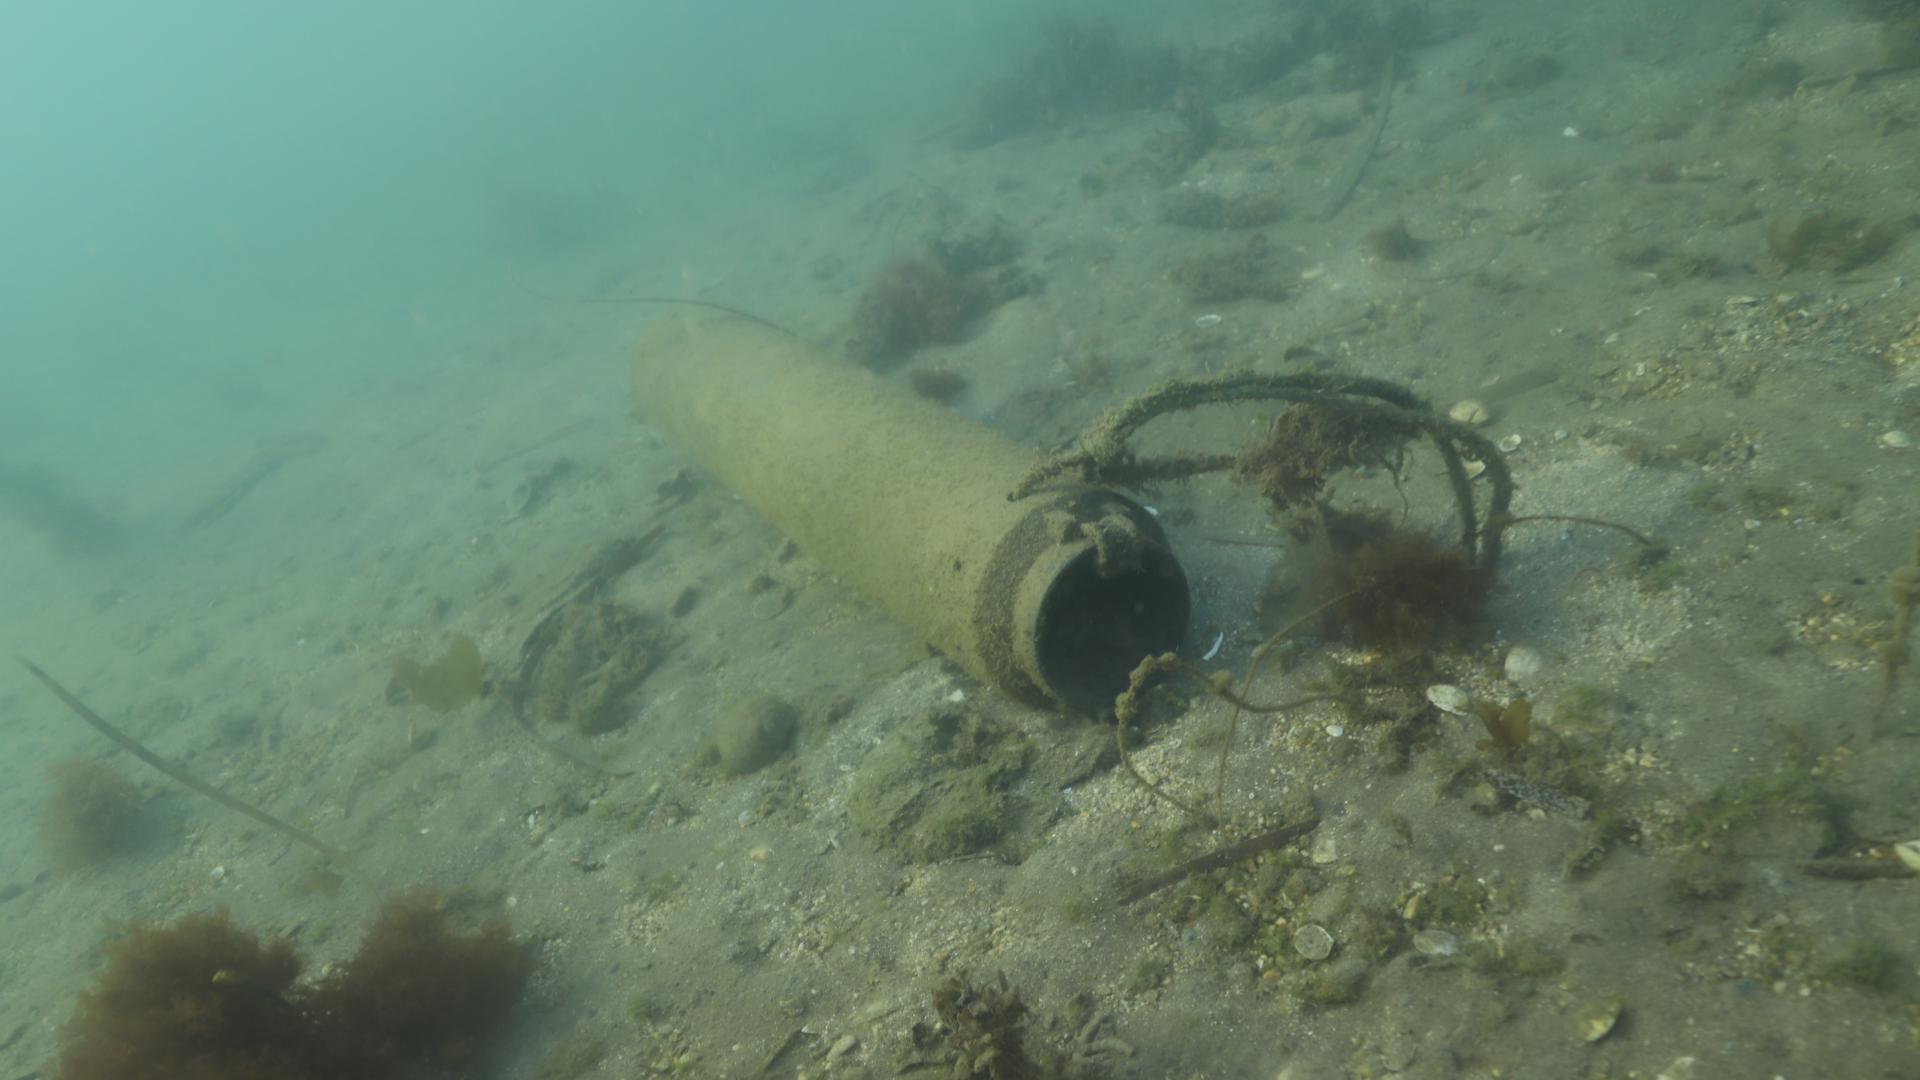bundle of ropes: (1007, 364, 1515, 574)
eel fish trap: (632, 302, 1191, 711)
